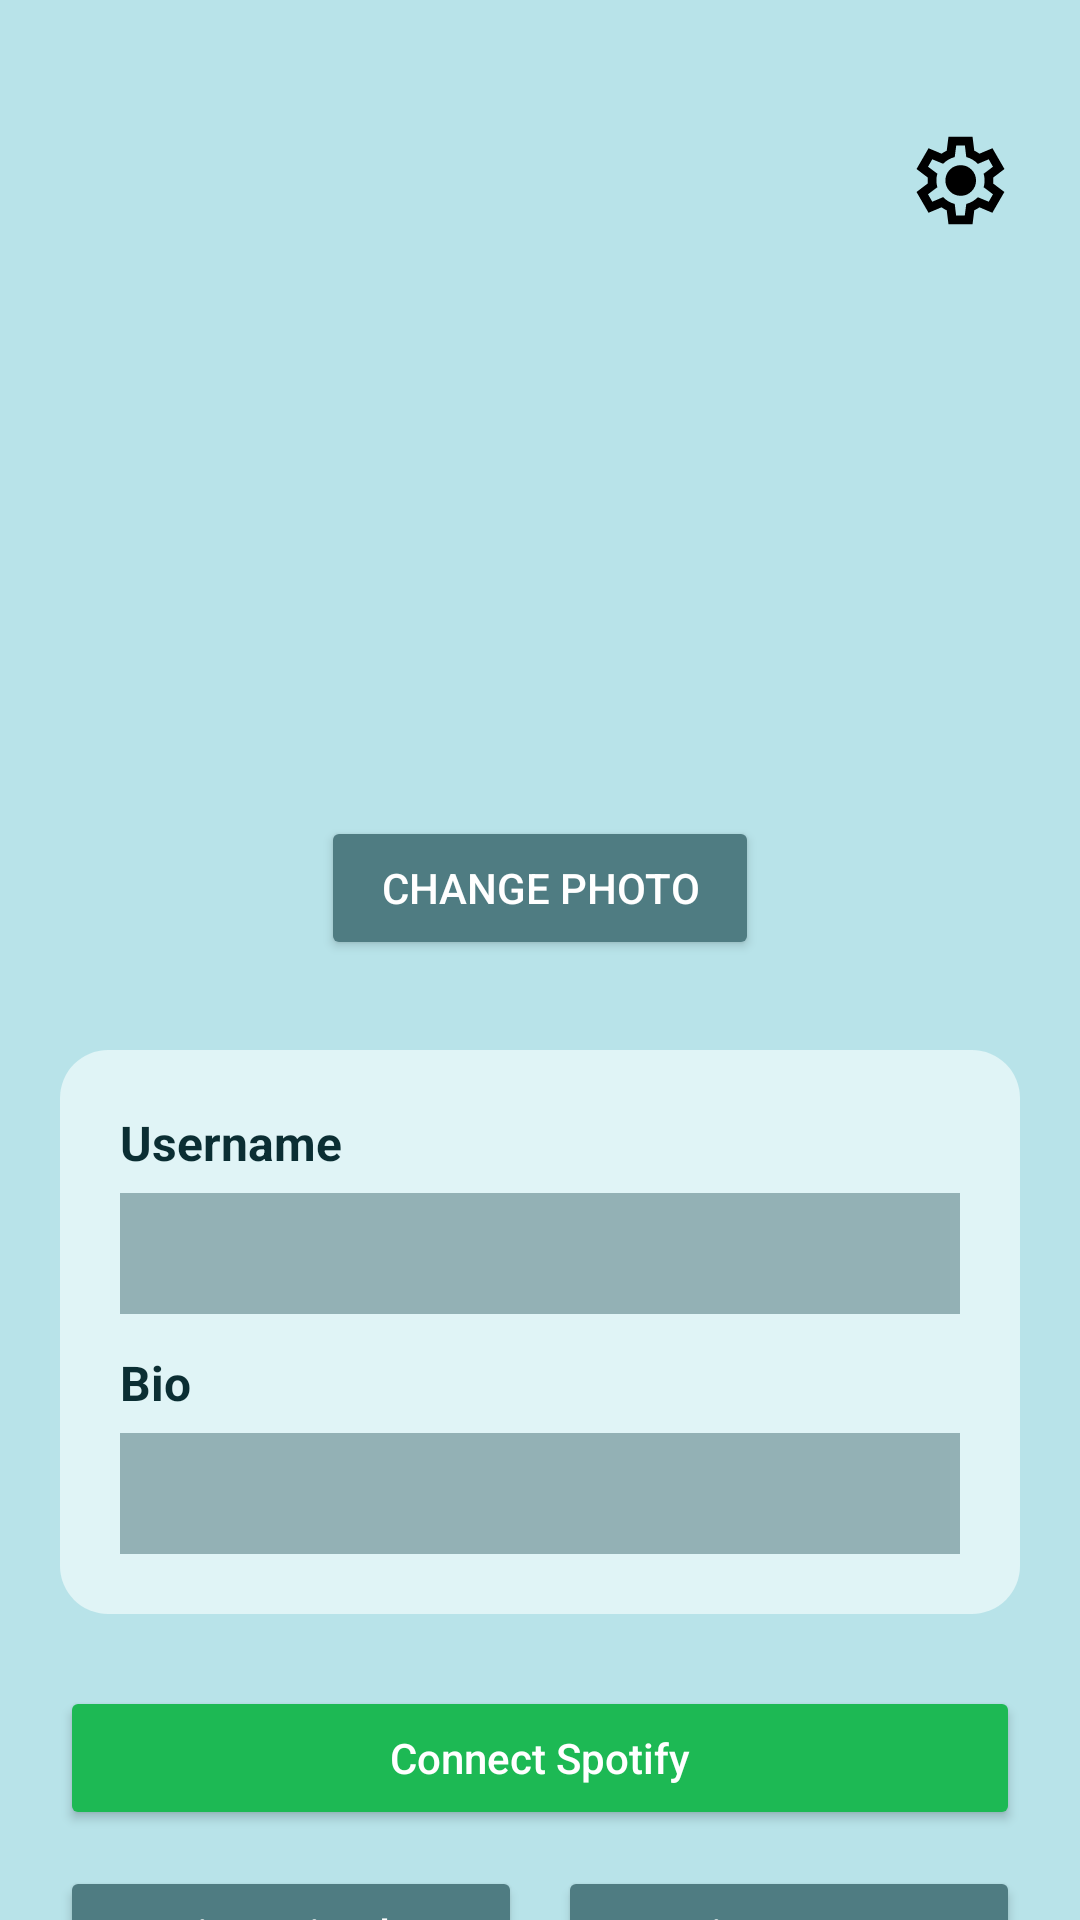

Locate icon controls on the screen. Image size 1080*1920, boxes as box(x1, y1, x2, y2).
settings: box(916, 136, 1005, 225)
